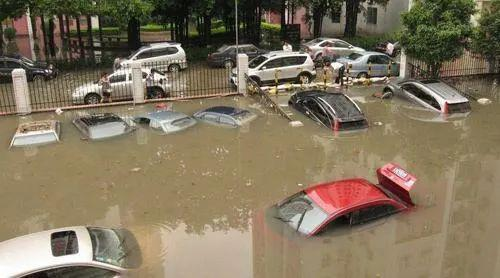water: (0, 80, 499, 277)
